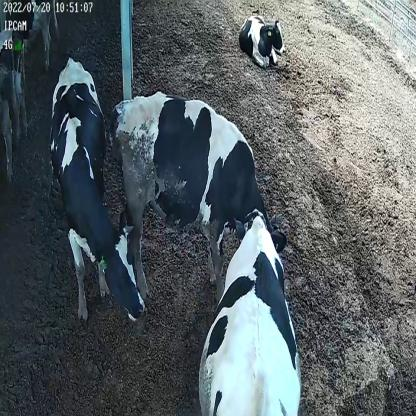cow: (109, 90, 284, 301), (49, 58, 148, 332), (198, 204, 302, 414), (237, 8, 287, 70)
